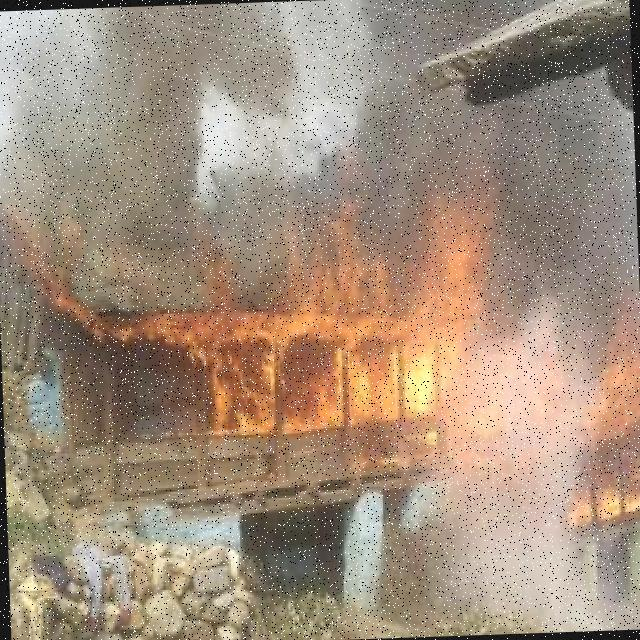Fire: (201, 218, 487, 476)
Smoke: (0, 2, 311, 311), (478, 311, 611, 633), (412, 468, 613, 635)
